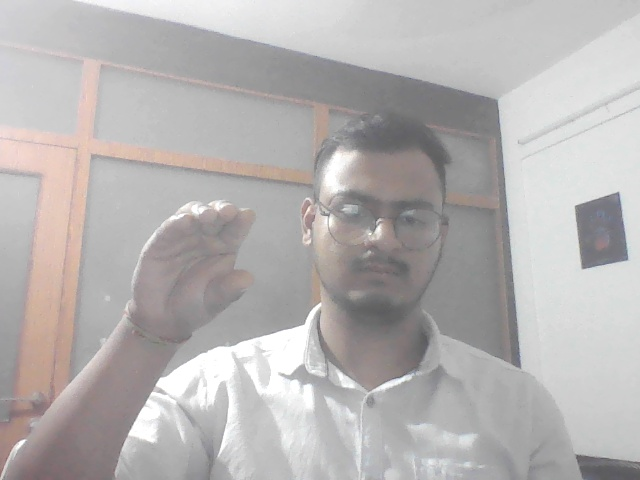NO: (119, 188, 264, 354)
